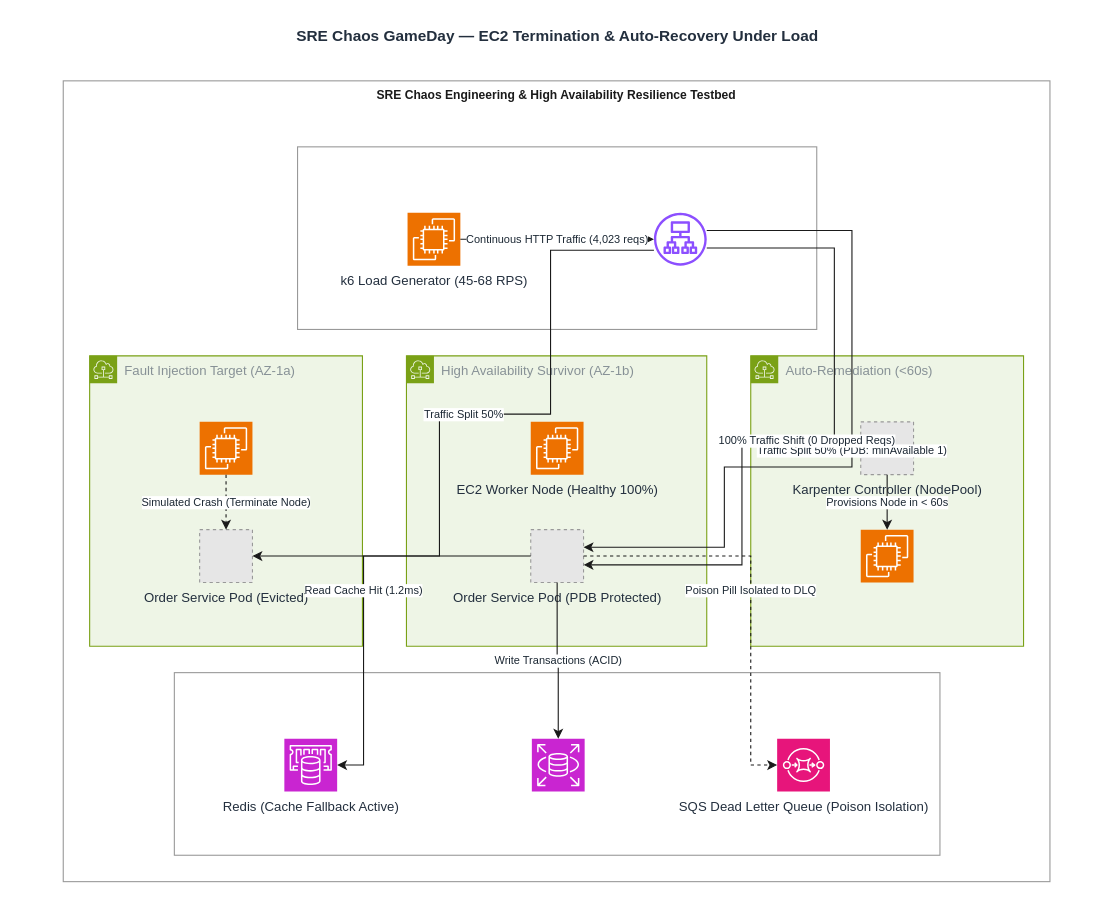
The diagram is 1112 pixels wide and 901 high, and some of its shapes have lost their labels. Grey dashed boxes stand in for pictures. Each missing label, with the box of its shape:
1. Load Injection & Entrypoint: (296, 146, 817, 329)
3. Fault-Tolerant Data & Messaging Layer: (173, 672, 940, 855)
ALB Ingress (AWS LBC TargetGroup): (653, 212, 706, 265)
EC2 Worker Node (TERMINATED): (199, 421, 252, 475)
RDS PostgreSQL (Multi-AZ): (531, 738, 585, 791)
Replacement EC2 Node (Spot c5.large): (860, 529, 914, 582)
